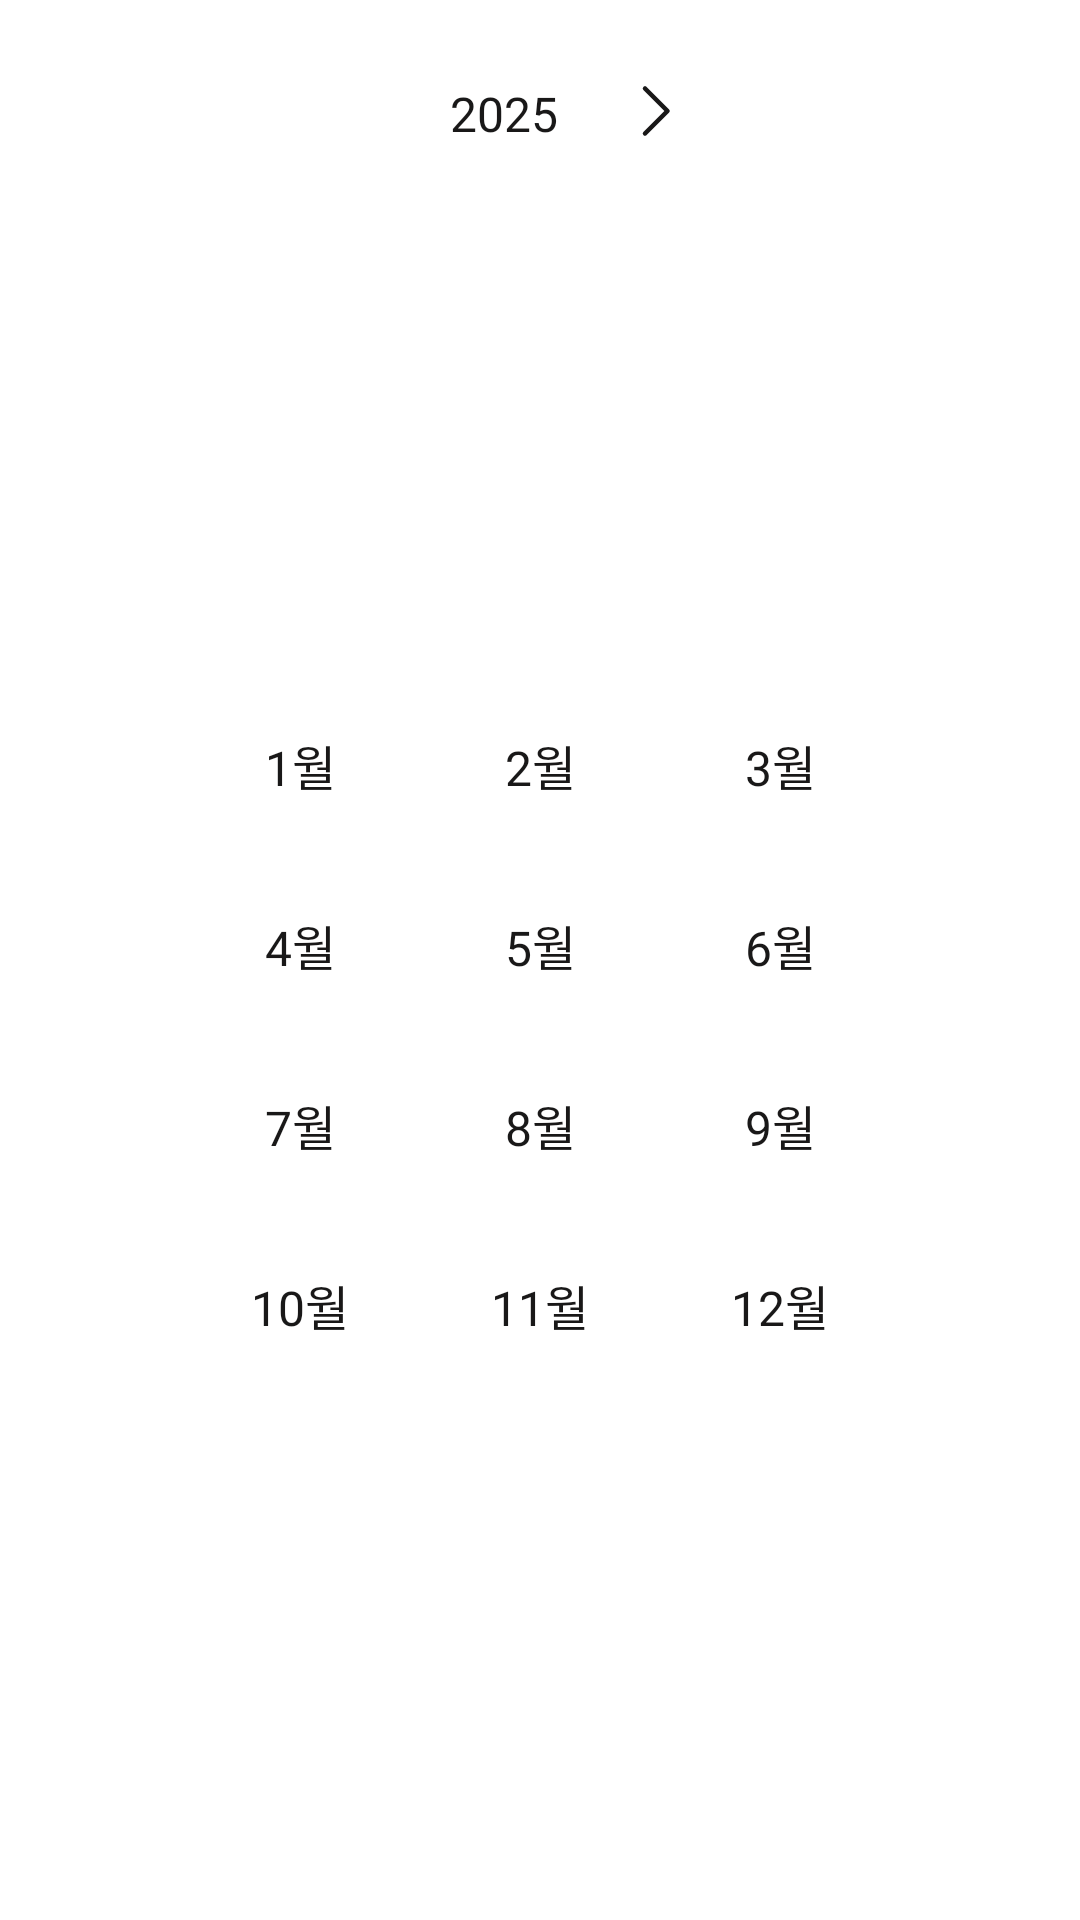

Icon click points for this 1080 × 1920 phone screenshot, format (x,y):
right: (656,111)
